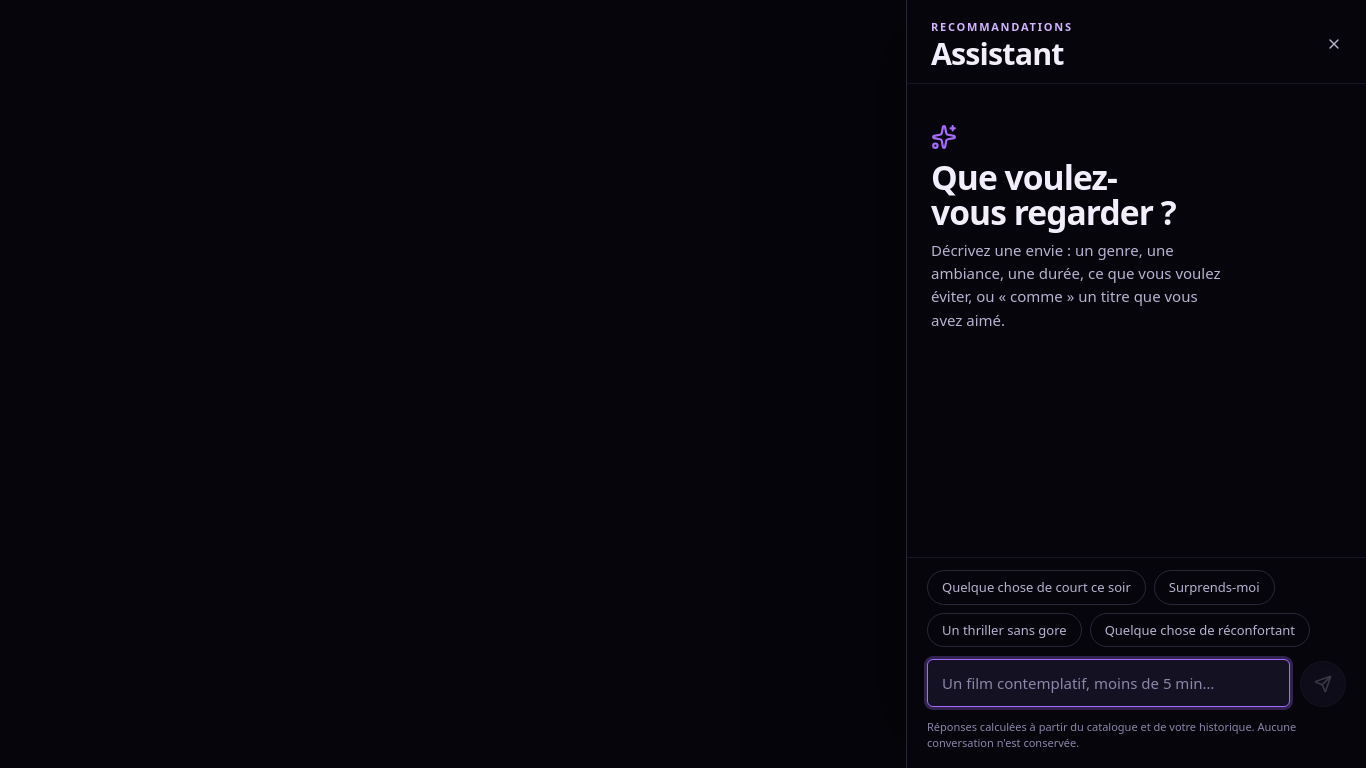
Scenario: AssistantPanel › affiche une erreur claire si l'assistant échoue, sans casser le panneau
Type "bonjour" into the text box named "Votre message à l'assistant" at [1108, 683], box [927,659,1290,707]
Then press Enter
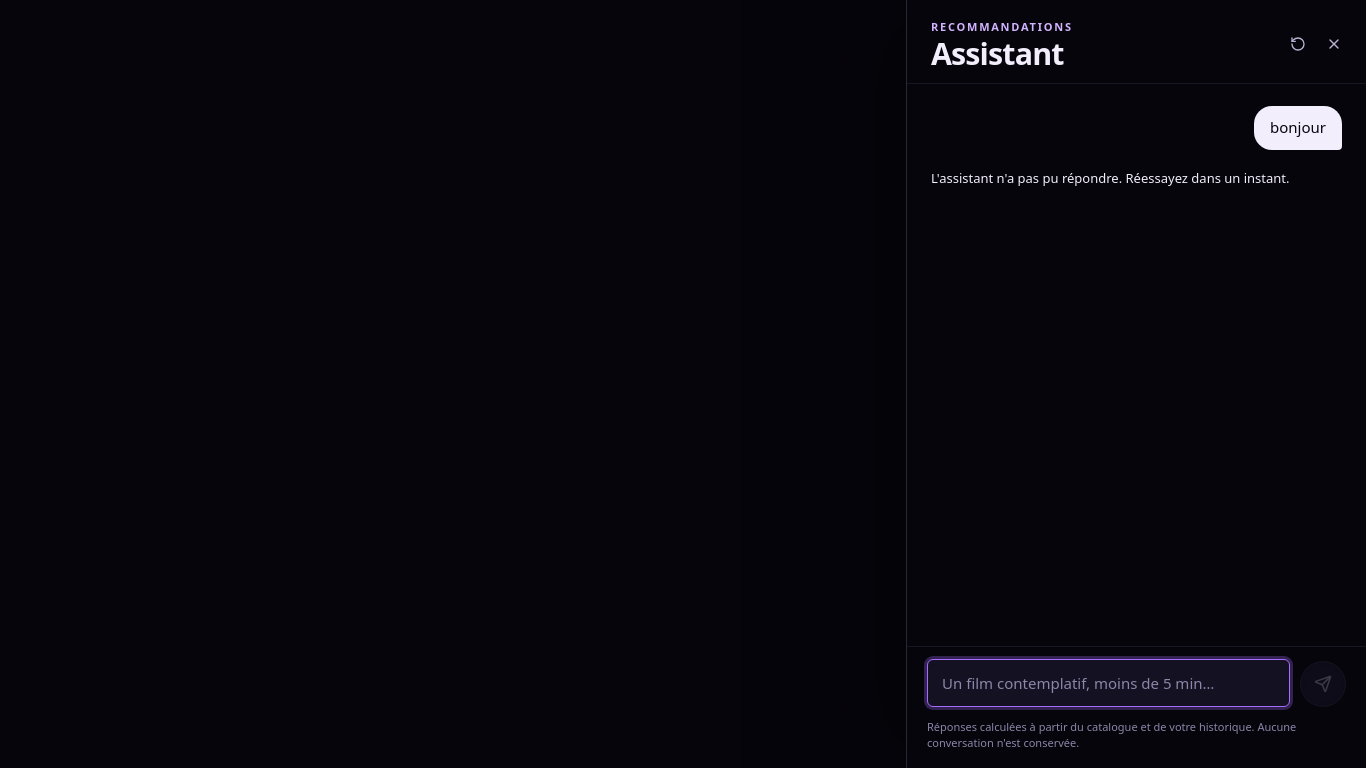
Check: the message shows "n'a pas pu répondre", box [931,169,1290,187]
